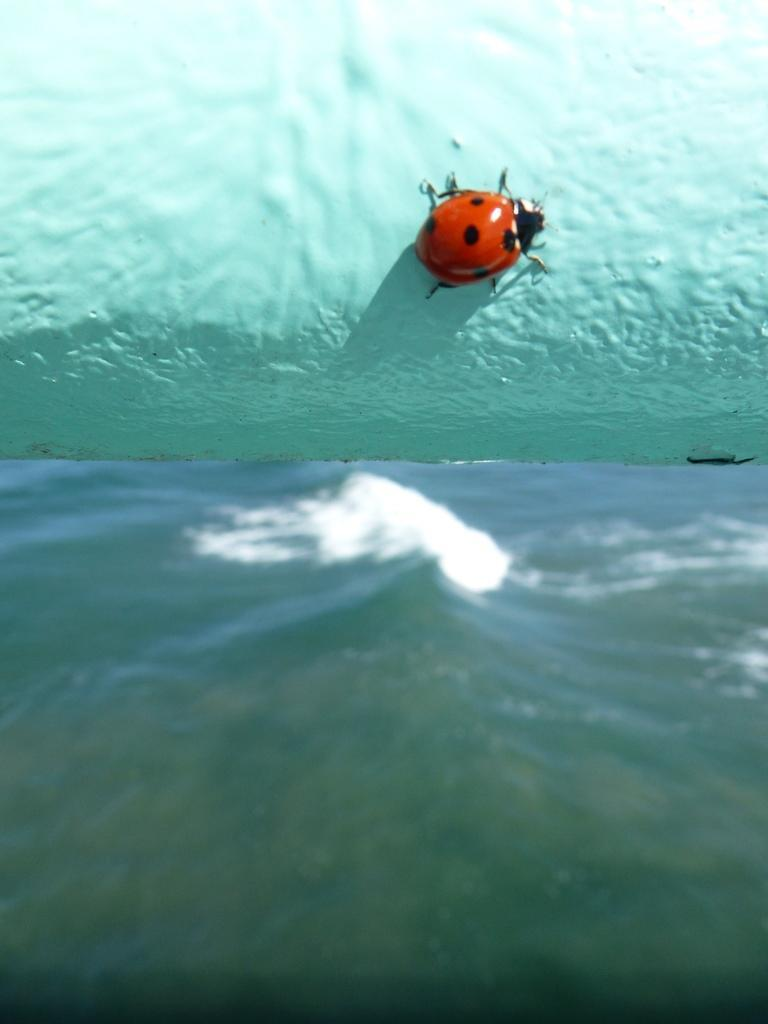ladybug: (416, 164, 554, 296)
